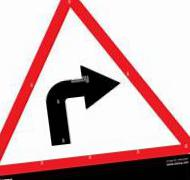right: (1, 1, 190, 175)
